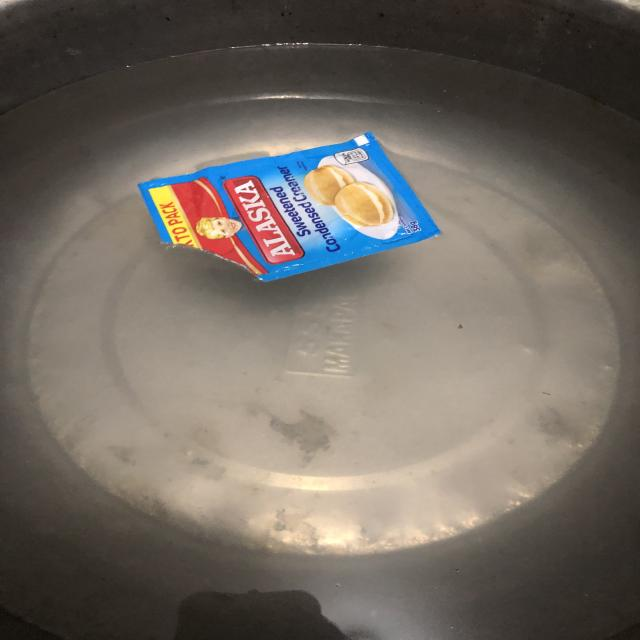Plastic Wrapper: (121, 114, 457, 296)
